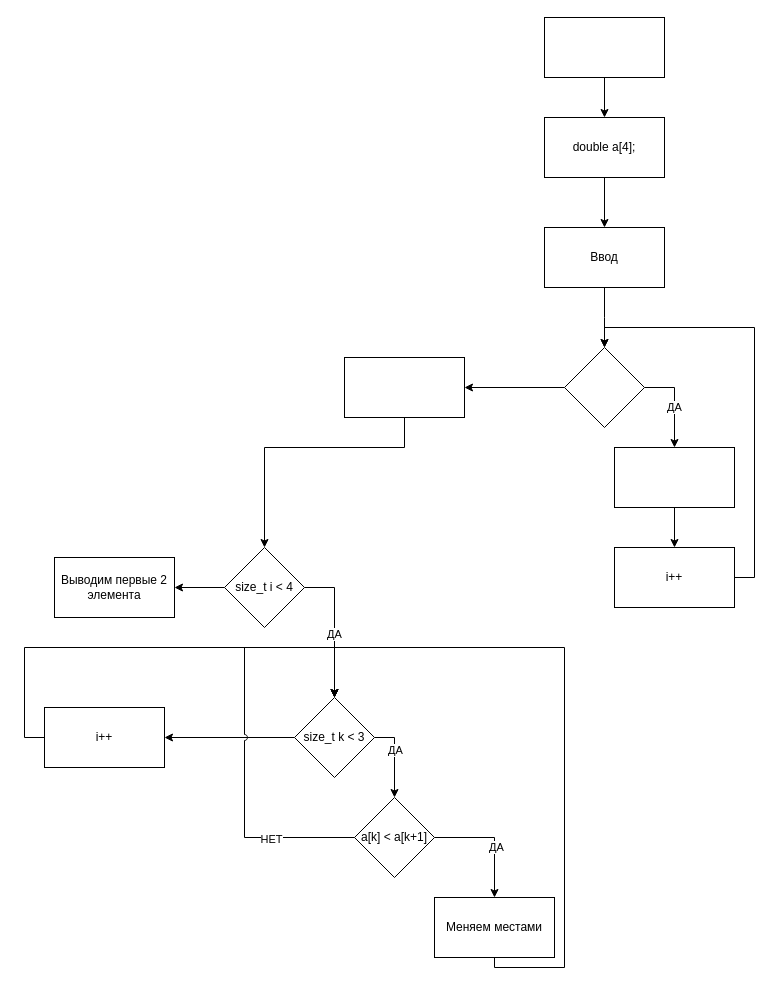
Image size: 780x993. Some labels were removed from this diagram. Here are the shapes that lost their labels. From the top down, the centre of each, then its label:
[604,47]: void f2min()
[404,387]: Сортировка пузырьком
[604,387]: int i < 4
[674,477]: Считываем элемент массива cin >> a[i];
